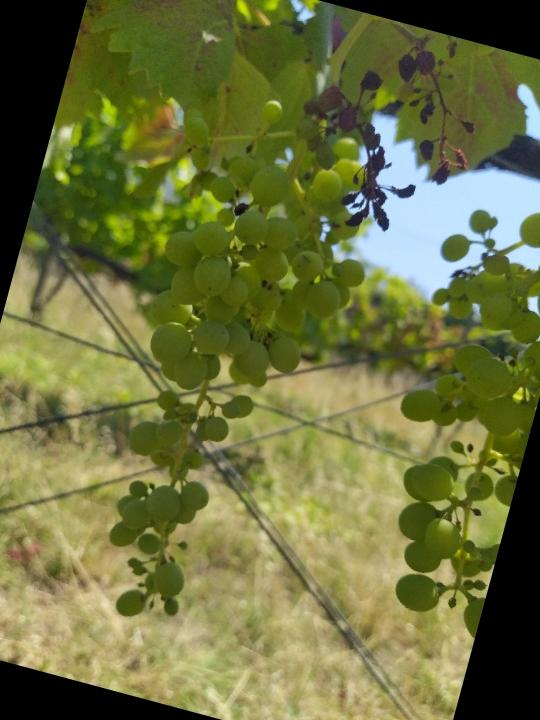grape: (45, 74, 409, 665), (272, 11, 504, 255)
